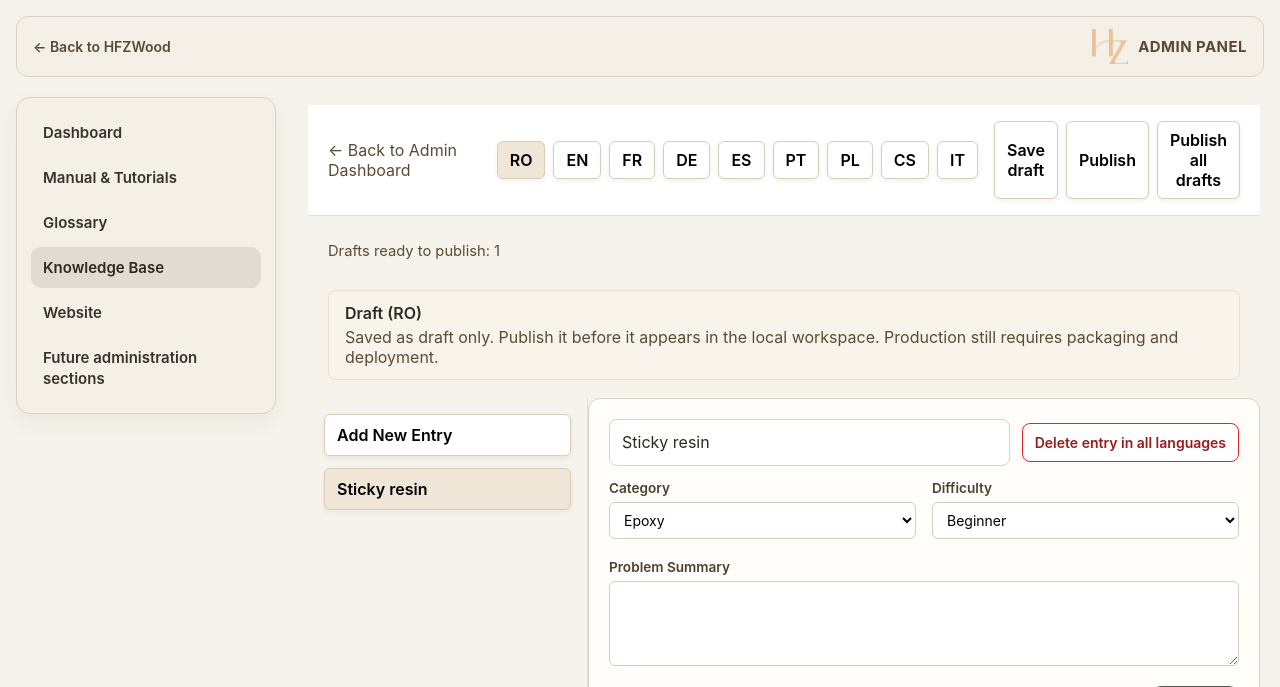
Test: Knowledge base management workspace (Task 61) › deletes the selected knowledge base entry
Expected: the button "Sticky resin" is shown, x1=324 y1=468 x2=571 y2=510
Click the button "Delete entry in all languages".
click(1130, 442)  # box x1=1022 y1=423 x2=1239 y2=462
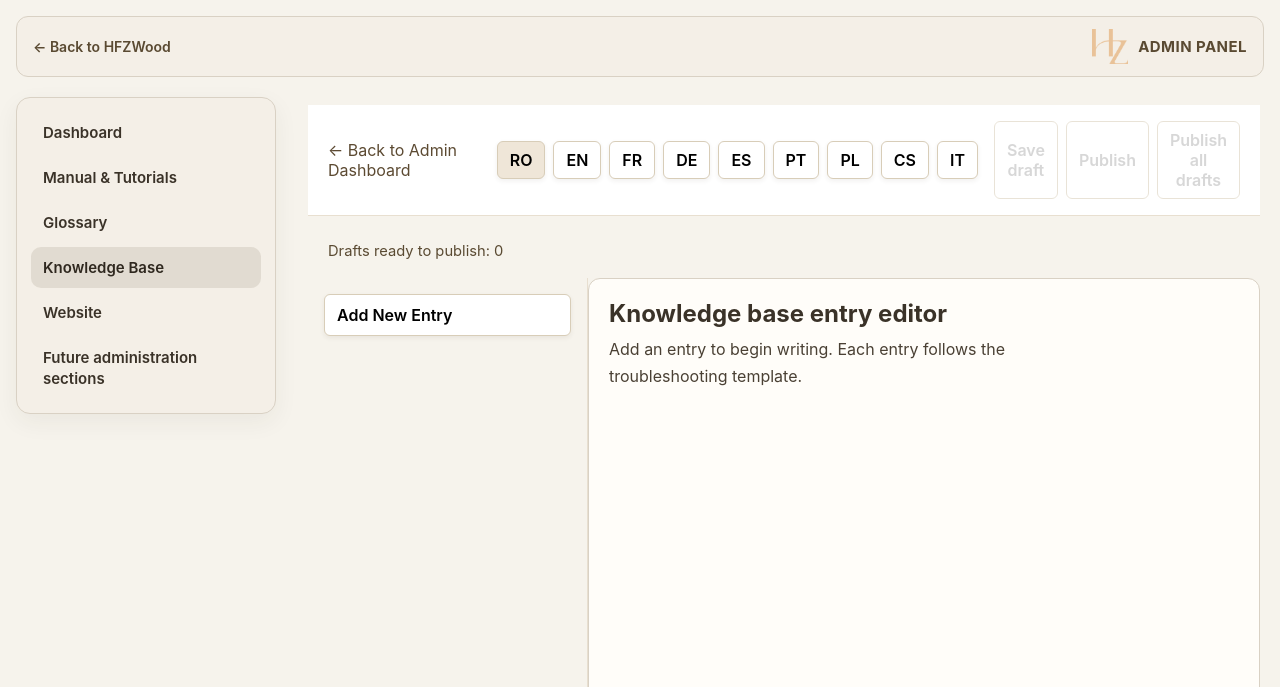
Expected: the button "Sticky resin" is gone
